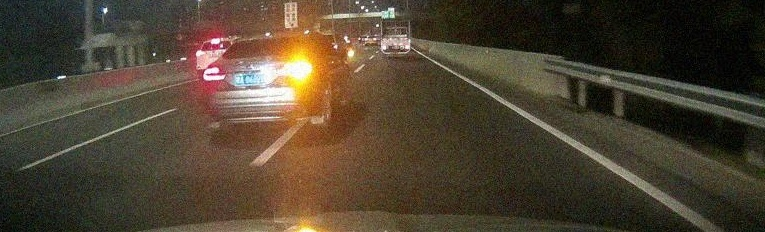L_light: (202, 65, 227, 82)
R_light: (286, 62, 312, 78)
T_light: (260, 38, 278, 42)
night-right: (201, 32, 322, 132)
